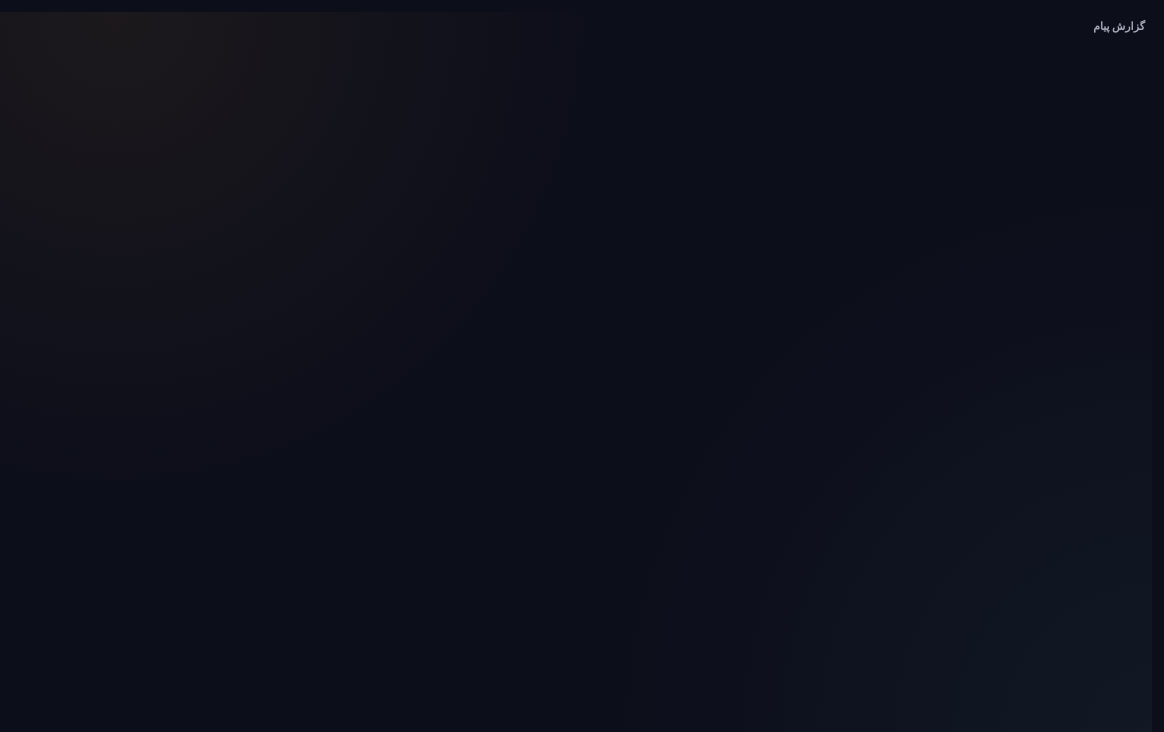
MessageReportAction › renders Persian reporting copy when the interface is RTL
Step 1. Click the button "گزارش پیام" → (1119, 27), box [1086, 12, 1152, 41]
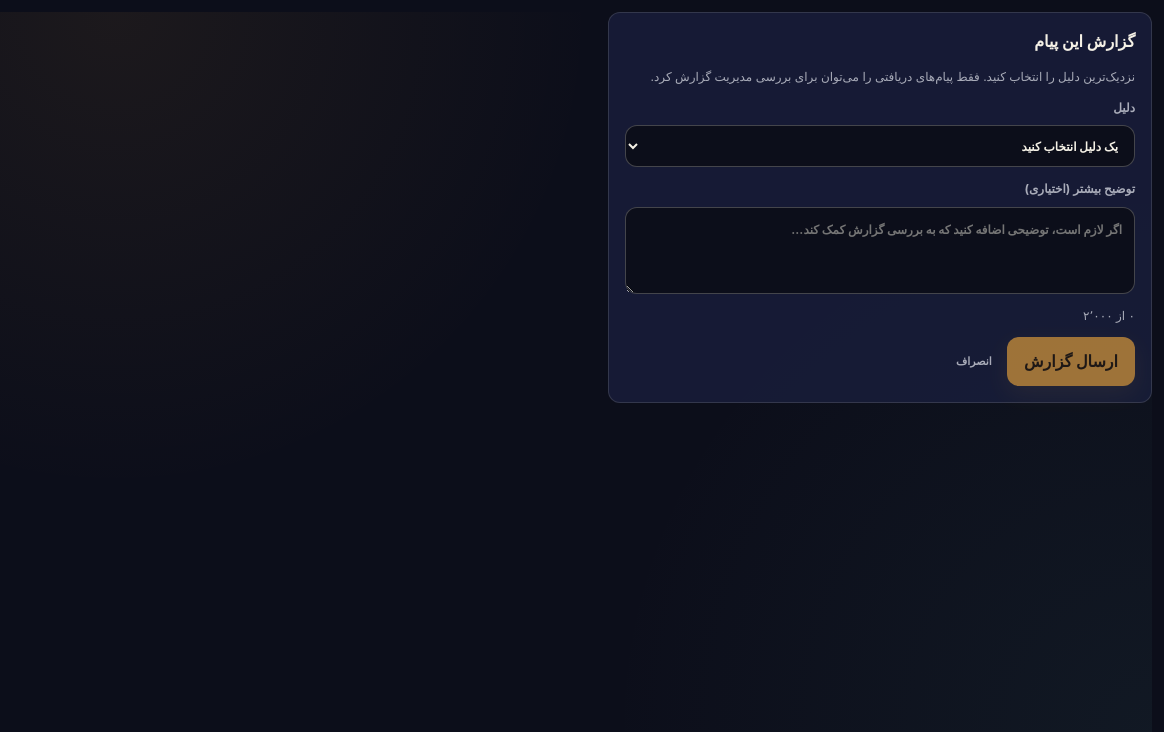
Check: the text "گزارش این پیام" is shown, box [1034, 31, 1135, 51]
